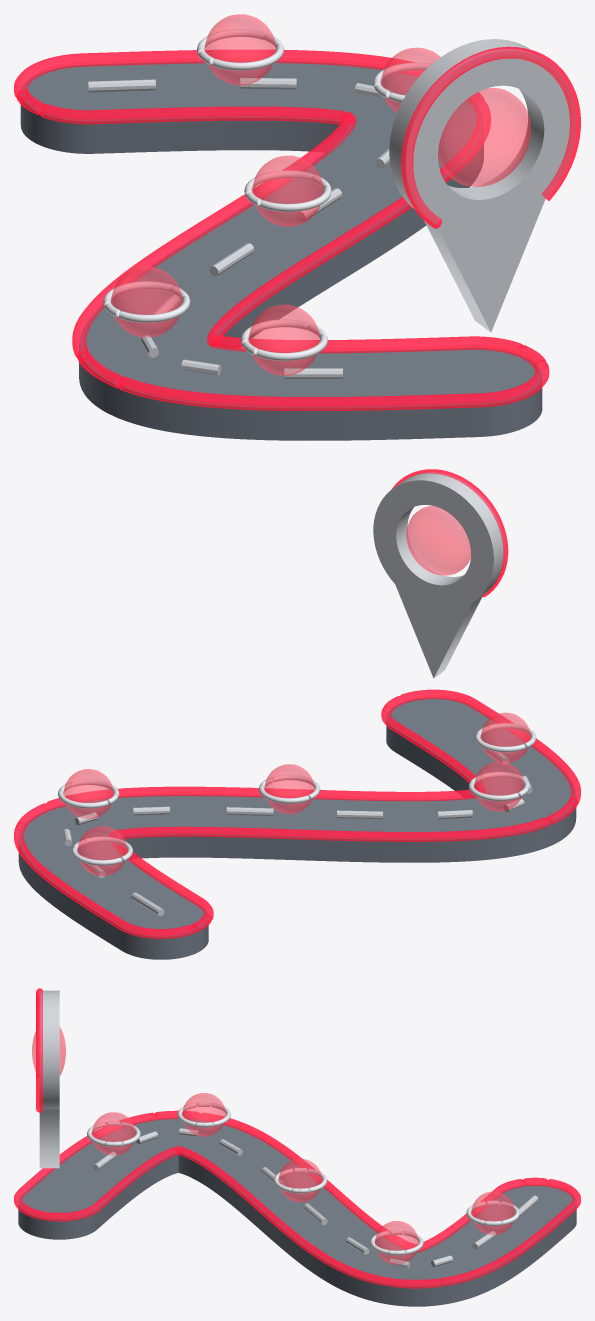
File: 44-customer-journey.glb
3 views of the same model, one above another, from view 1: azimuth 30°, elevation 25°; view 2: azimuth 150°, elevation 25°; view 3: azimuth 270°, elevation 25° (orthographic). The views are drawn at different scales.
Visible parts, largest first — view 1: BC dark brushed metal, BC neon red glass edge, BC satin silver metal, BC ruby optical glass, BC polished silver metal; view 2: BC dark brushed metal, BC neon red glass edge, BC satin silver metal, BC ruby optical glass, BC polished silver metal; view 3: BC dark brushed metal, BC neon red glass edge, BC ruby optical glass, BC satin silver metal, BC polished silver metal.
Boxes of the visible parts, x1,y1,x2,y2 form: BC dark brushed metal: (20, 61, 542, 440); BC neon red glass edge: (14, 46, 580, 410); BC satin silver metal: (87, 39, 576, 378); BC ruby optical glass: (111, 14, 530, 375); BC polished silver metal: (103, 29, 431, 360); BC dark brushed metal: (18, 698, 576, 959); BC neon red glass edge: (14, 469, 580, 938); BC satin silver metal: (62, 472, 532, 916); BC ruby optical glass: (63, 505, 530, 876); BC polished silver metal: (58, 723, 536, 865); BC dark brushed metal: (18, 1118, 576, 1306); BC neon red glass edge: (14, 988, 580, 1288); BC ruby optical glass: (32, 1027, 514, 1264); BC satin silver metal: (39, 990, 538, 1268); BC polished silver metal: (87, 1102, 519, 1255).
Size of the model in its own units: 1.68 by 1.03 by 2.32.
